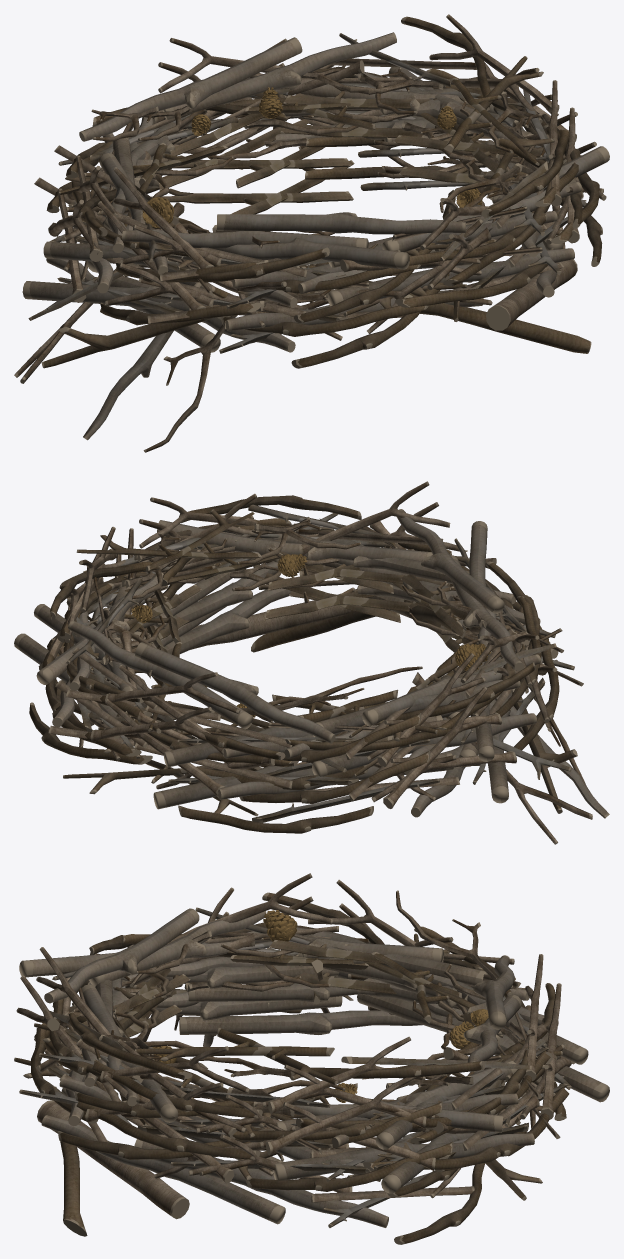
The model's file is eagle-portal-v2.glb.
3 renders of one model, top to bottom at view 1: azimuth 30°, elevation 25°; view 2: azimuth 150°, elevation 25°; view 3: azimuth 270°, elevation 25°, orthographic. The views are drawn at different scales.
Parts seen in each view (by area): view 1: pCylinder50_Stick_1_Material_0, pCylinder50_Stick_2_Material_0, pCylinder50_Stick_3_Material_0, polySurface87_Stick_4_Material_0; view 2: pCylinder50_Stick_1_Material_0, pCylinder50_Stick_2_Material_0, pCylinder50_Stick_3_Material_0, polySurface87_Stick_4_Material_0; view 3: pCylinder50_Stick_1_Material_0, pCylinder50_Stick_2_Material_0, pCylinder50_Stick_3_Material_0, polySurface87_Stick_4_Material_0.
Part boxes in pixels (<box>): pCylinder50_Stick_1_Material_0: <box>22,32,609,440</box>; pCylinder50_Stick_2_Material_0: <box>41,16,603,368</box>; pCylinder50_Stick_3_Material_0: <box>14,14,606,452</box>; polySurface87_Stick_4_Material_0: <box>142,87,482,228</box>; pCylinder50_Stick_1_Material_0: <box>14,504,609,822</box>; pCylinder50_Stick_2_Material_0: <box>29,495,577,833</box>; pCylinder50_Stick_3_Material_0: <box>38,481,592,844</box>; polySurface87_Stick_4_Material_0: <box>131,554,490,718</box>; pCylinder50_Stick_1_Material_0: <box>19,907,609,1227</box>; pCylinder50_Stick_2_Material_0: <box>14,892,569,1244</box>; pCylinder50_Stick_3_Material_0: <box>16,873,571,1219</box>; polySurface87_Stick_4_Material_0: <box>152,910,488,1102</box>.
Size of the model in its own units: 14.07 by 5.78 by 12.76.
4 materials, 4 textured.
